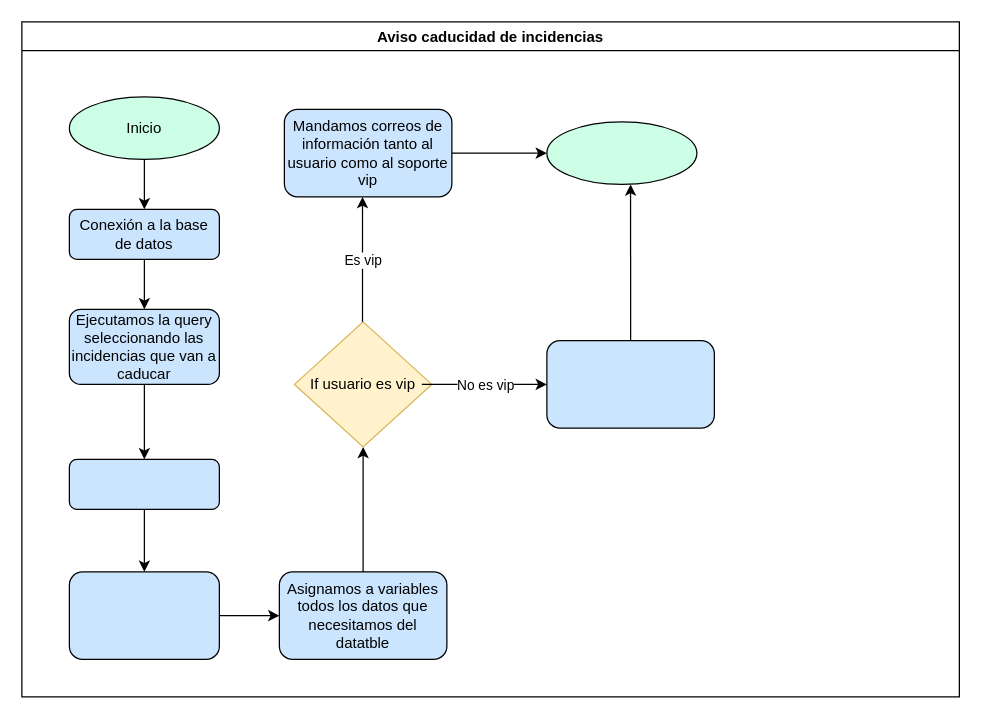
Image size: 981x719. Some labels were removed from this diagram. The shapes that lost their labels are listed below. From the top down, each one's centre as x and y in pixels, then its label:
point (621, 152): Fin
point (630, 383): Mandamos correos de información tanto al usuario como al soporte
point (143, 483): Leemos el template para los correos
point (143, 615): Realizamos un forEach al datatable que nos devuelve la query
